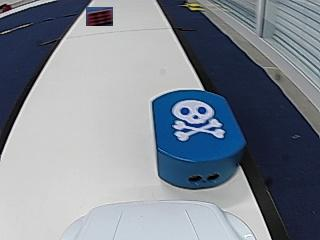danger: (173, 103, 224, 140)
